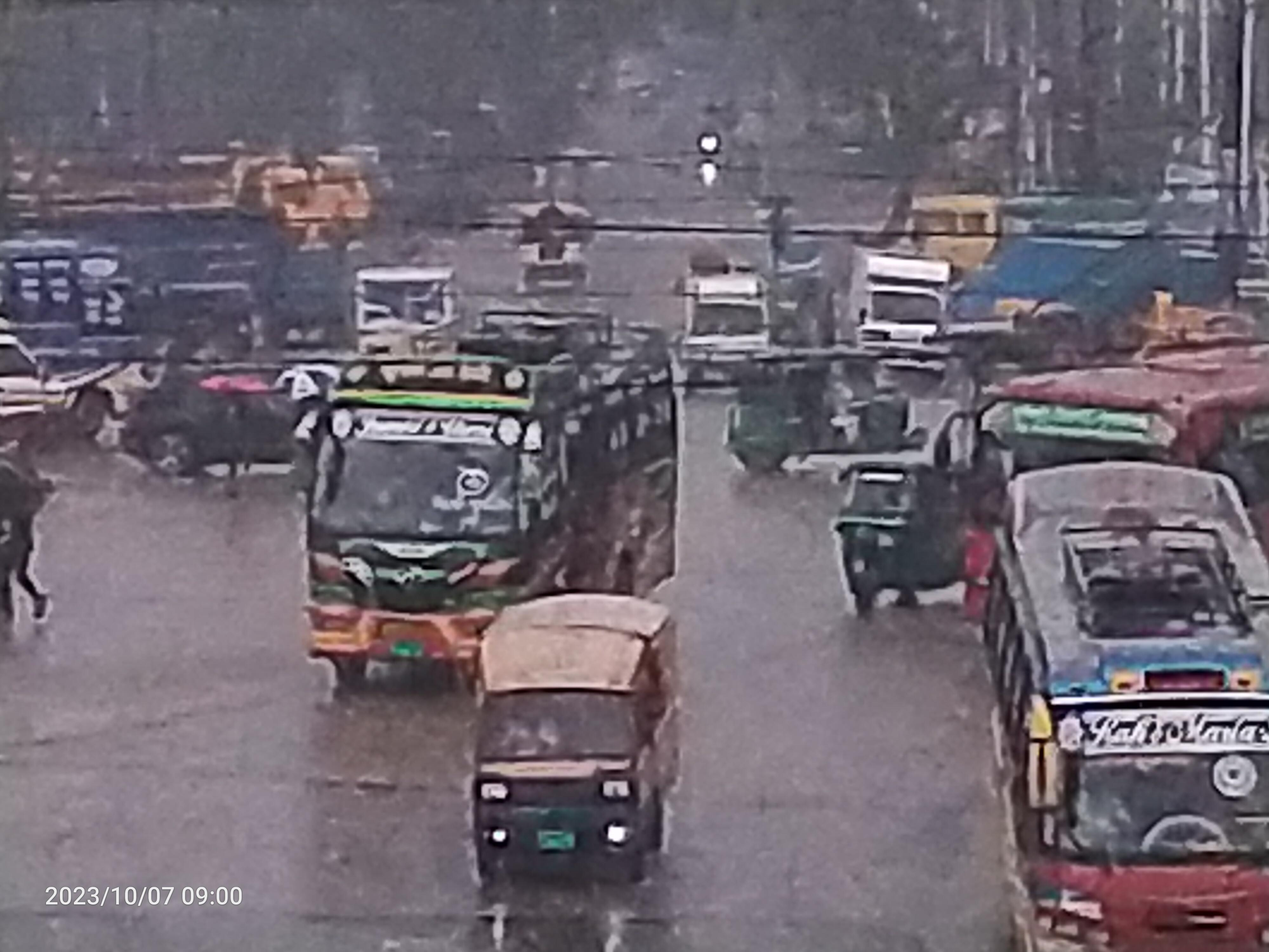Bus: (282, 303, 731, 710), (946, 447, 1269, 952)
Car: (406, 577, 713, 924), (73, 352, 322, 495), (831, 225, 967, 388), (672, 260, 793, 411), (322, 252, 470, 373)
